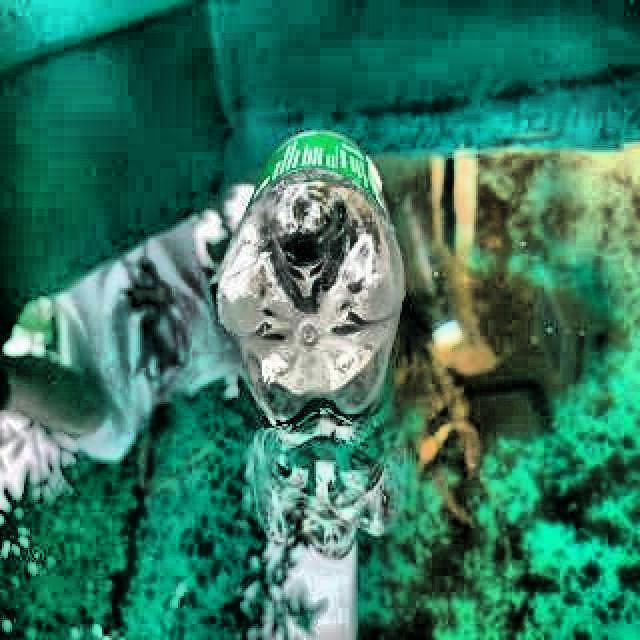Anorganik: (218, 126, 406, 426)
